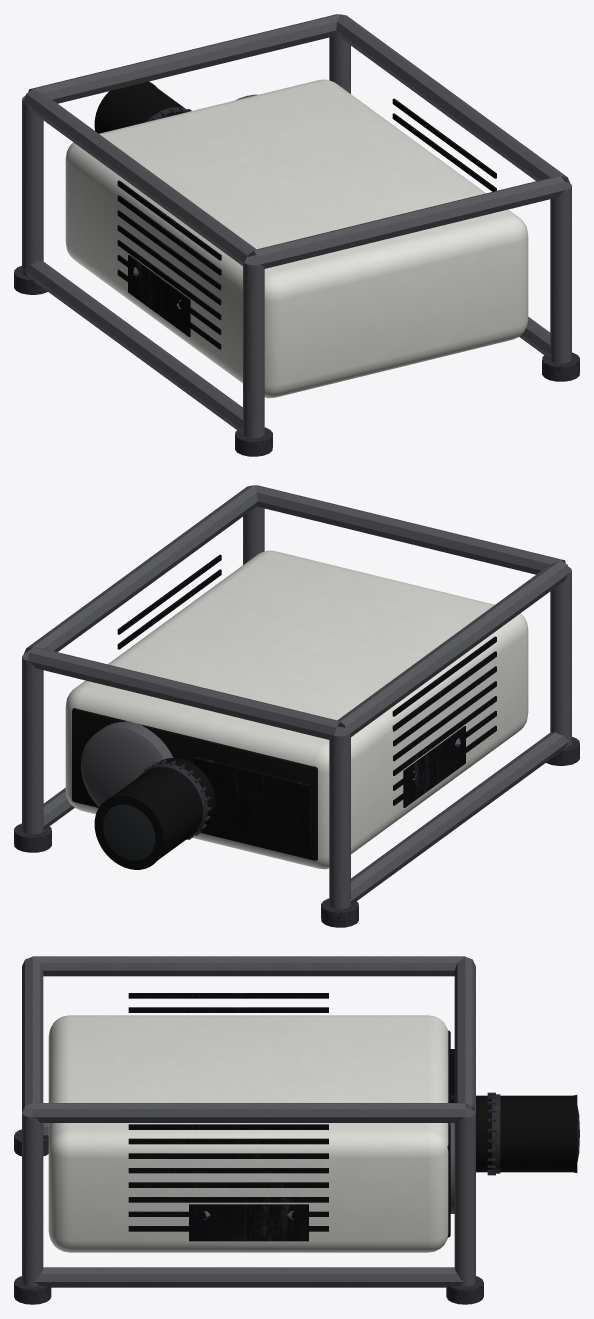
File: projector_panorama_20k.gltf
3 renders of one model, top to bottom at view 1: azimuth 30°, elevation 25°; view 2: azimuth 150°, elevation 25°; view 3: azimuth 270°, elevation 25°, orthographic. The views are drawn at different scales.
Parts seen in each view (by area): view 1: projector_panorama_20k; view 2: projector_panorama_20k; view 3: projector_panorama_20k.
Part boxes in pixels (left/top/right/bottom): projector_panorama_20k: left=14, top=14, right=579, bottom=456; projector_panorama_20k: left=14, top=485, right=579, bottom=927; projector_panorama_20k: left=14, top=956, right=579, bottom=1304.
Size of the model in its own units: 0.72 by 0.4 by 1.06.
7 materials, 6 textured.
